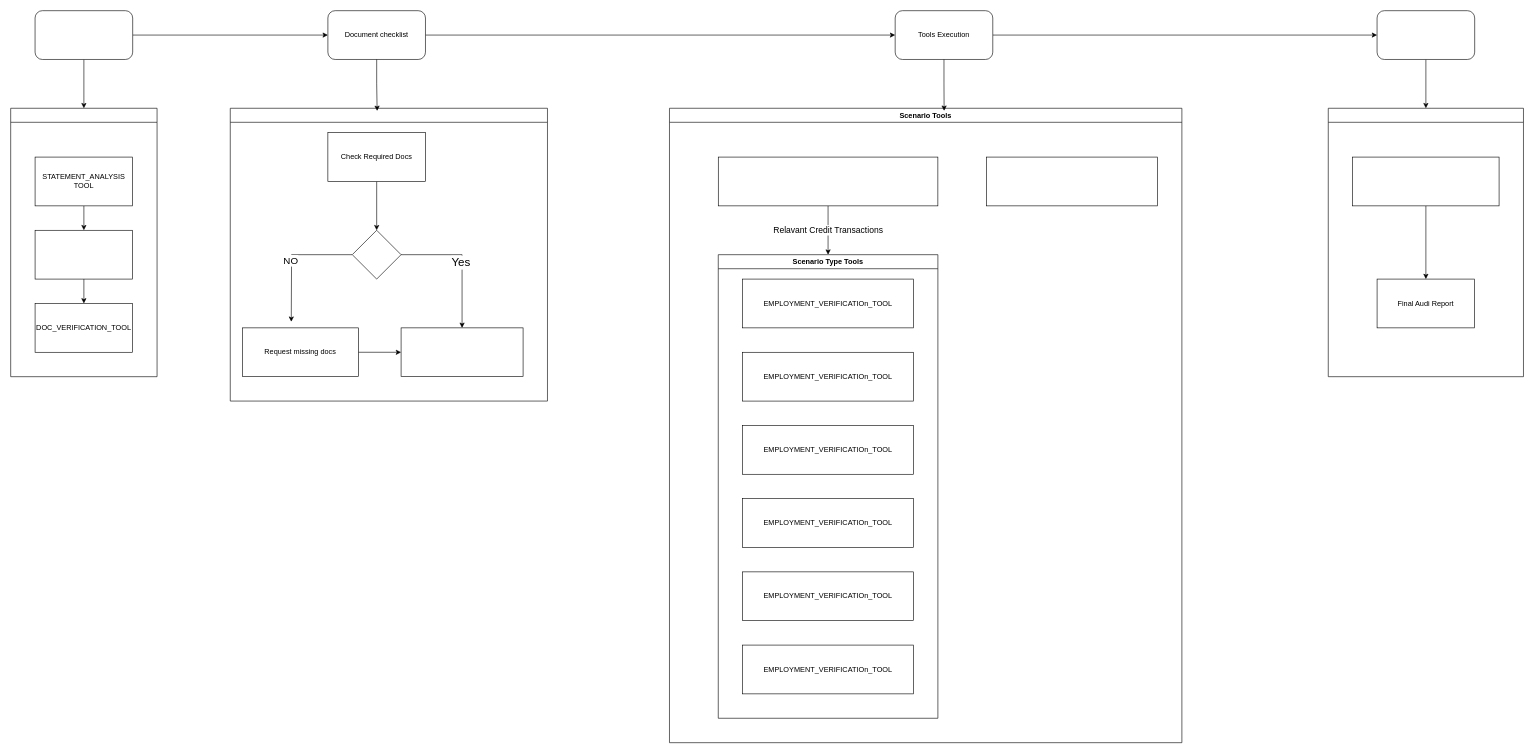
The diagram is 1534 pixels wide and 753 high, and some of its shapes have lost their labels. Here are the shapes that lost their labels. From the top down, the centre of each, then its label:
At [83,34]: "SOF Input Analysis".
At [1425,34]: "Audit Report".
At [828,181]: "BANK_TRANSACTION_MATCHING_DISCOVERY".
At [1071,181]: "EXCEPTION_CODE_RULE_ENGINE".
At [1425,181]: "SOF_VERDICT_SUMMARY_TOOL".
At [83,254]: "GET_SCENRIOS_TOOL".
At [376,254]: "All docs available".
At [461,352]: "DOC_DATA_EXTRACTION_TOOL".
